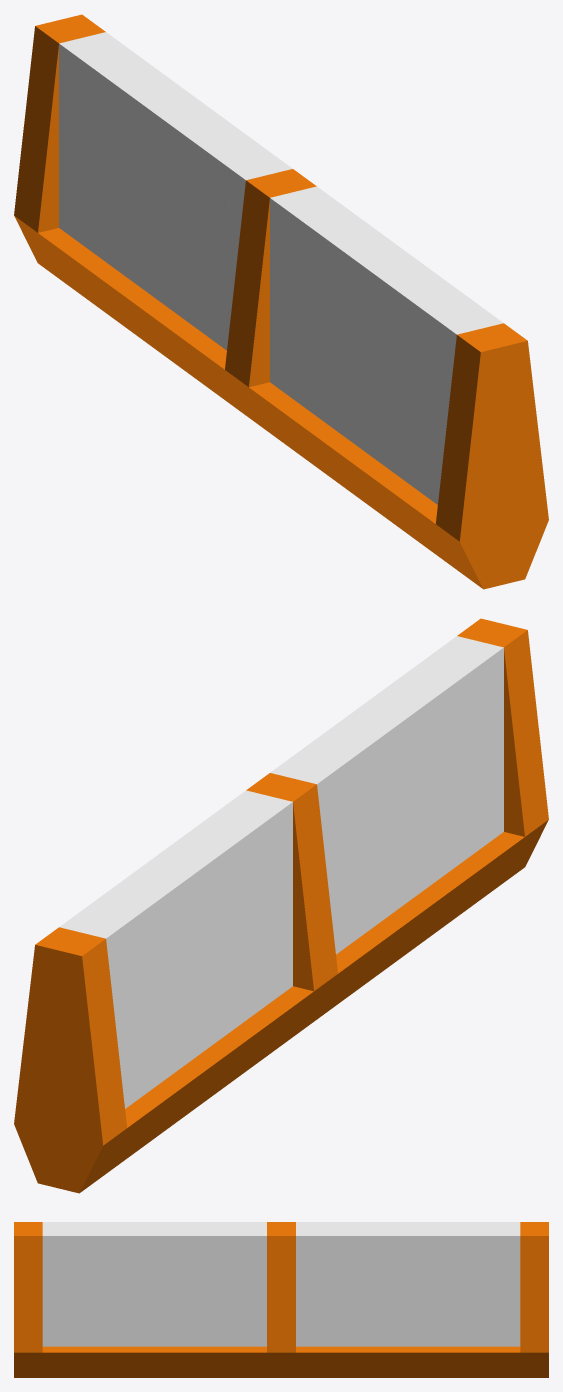
Rendered from Barrier.fbx.
The picture shows the model from 3 angles, top to bottom: view 1: azimuth 30°, elevation 25°; view 2: azimuth 150°, elevation 25°; view 3: azimuth 270°, elevation 25°; orthographic projection. The views are drawn at different scales.
Visible parts, largest first — view 1: BarrierHalf, Barrier; view 2: Barrier, BarrierHalf; view 3: Barrier, BarrierHalf.
Part boxes in pixels (x1=…): BarrierHalf: x1=249, y1=186, x2=548, y2=589; Barrier: x1=14, y1=14, x2=316, y2=434; Barrier: x1=14, y1=773, x2=337, y2=1193; BarrierHalf: x1=270, y1=618, x2=548, y2=1020; Barrier: x1=267, y1=1222, x2=548, y2=1377; BarrierHalf: x1=14, y1=1222, x2=266, y2=1377.
Bounding box in the file's own units: 19.78 × 50.4 × 171.
Materials: 1 (1 with a texture image).
